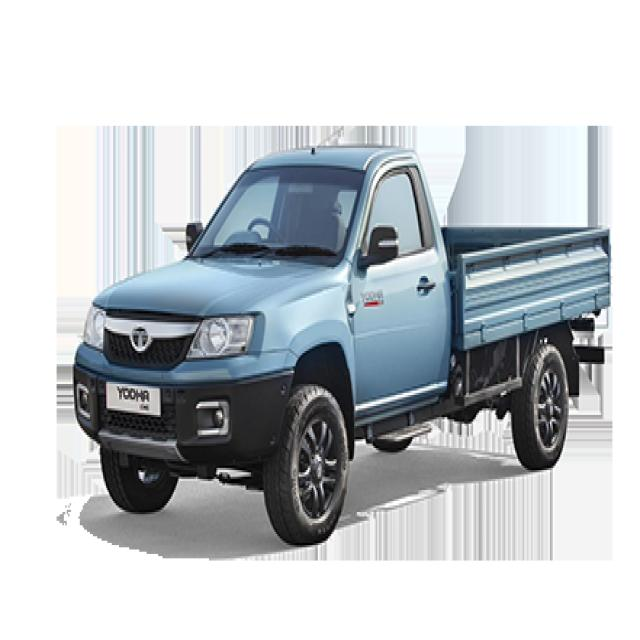light_vehicle: (72, 138, 612, 542)
